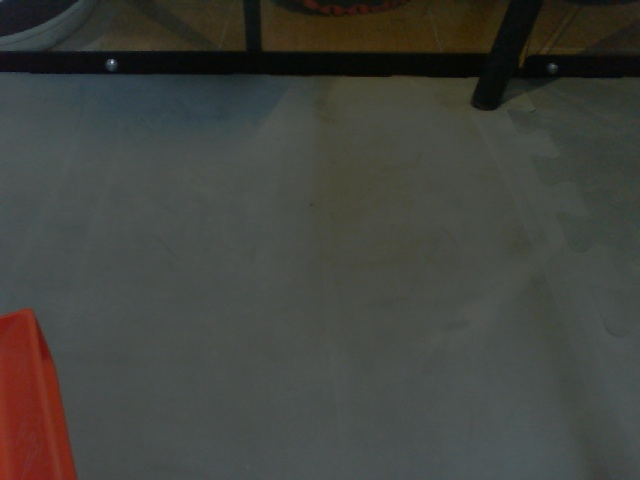RedSample: (1, 308, 79, 480)
